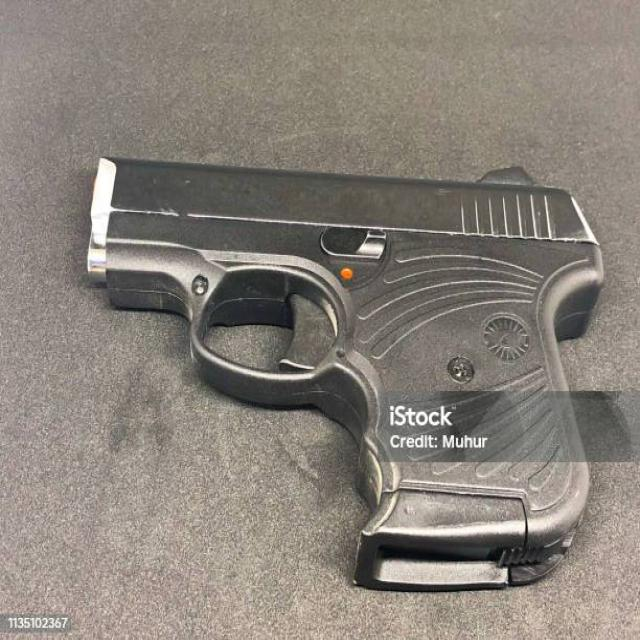handgun: (82, 156, 610, 592)
